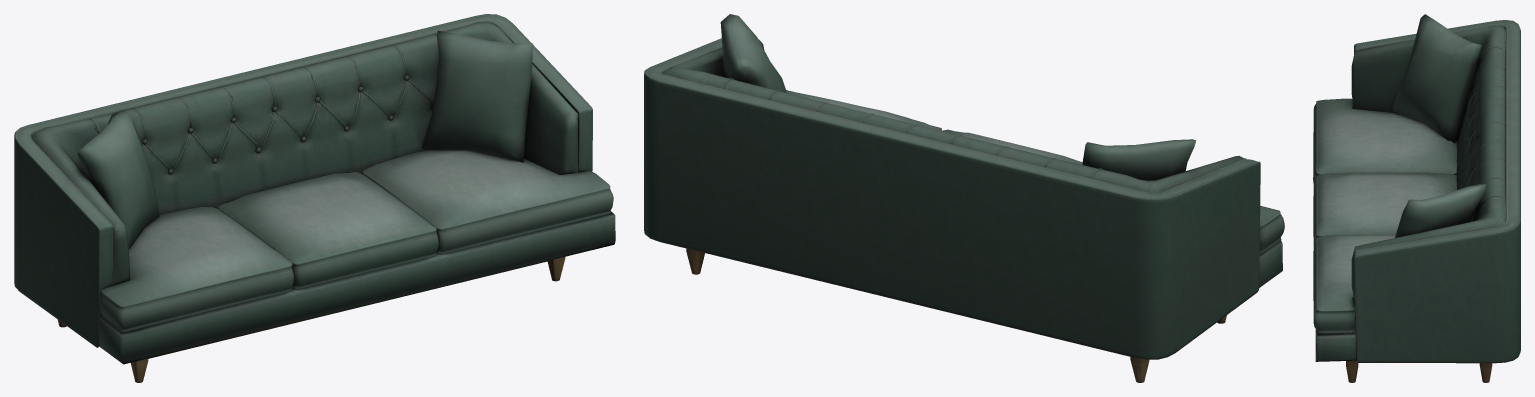
3 renders of one model, left to right at view 1: azimuth 30°, elevation 25°; view 2: azimuth 150°, elevation 25°; view 3: azimuth 270°, elevation 25°, orthographic. The views are drawn at different scales.
Visible parts, largest first — view 1: CHESTER_SOFA; view 2: CHESTER_SOFA; view 3: CHESTER_SOFA.
Boxes of the visible parts, x1,y1,x2,y2 form: CHESTER_SOFA: (14,14,615,382); CHESTER_SOFA: (644,14,1284,382); CHESTER_SOFA: (1313,14,1520,382).
Size of the model in its own units: 2 by 0.8041 by 0.8215.
Materials: 1 (1 with a texture image).
